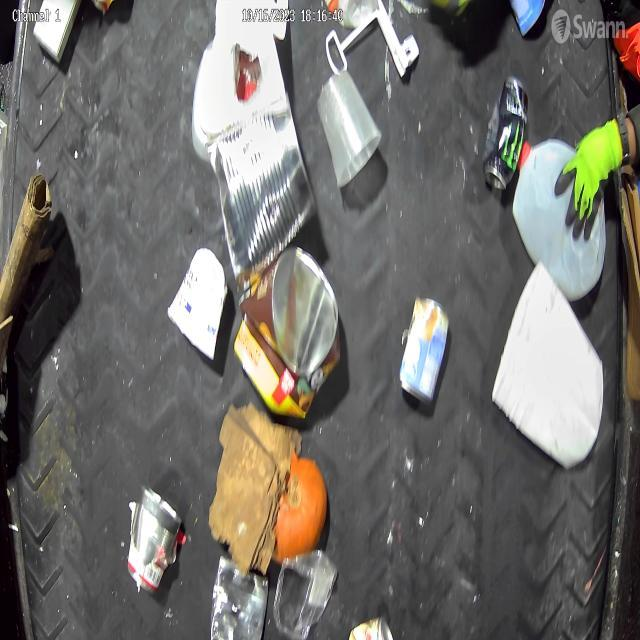can: (205, 93, 316, 280), (234, 246, 342, 419), (128, 486, 182, 596), (482, 75, 530, 191), (400, 295, 450, 405), (348, 615, 394, 640)
milk_jug: (492, 262, 604, 468), (513, 137, 606, 300)
